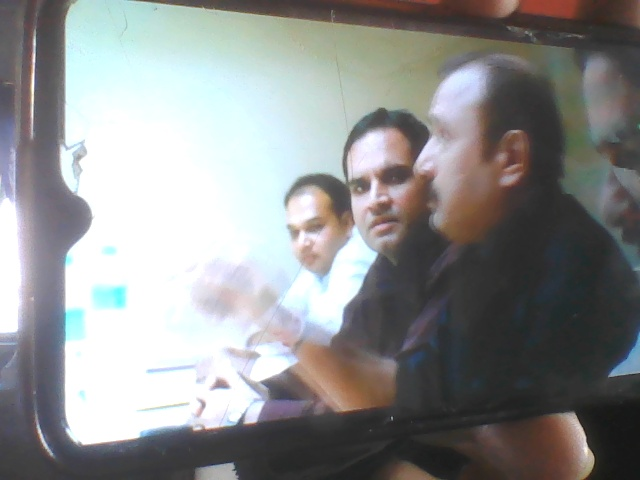fake: (344, 66, 486, 268)
